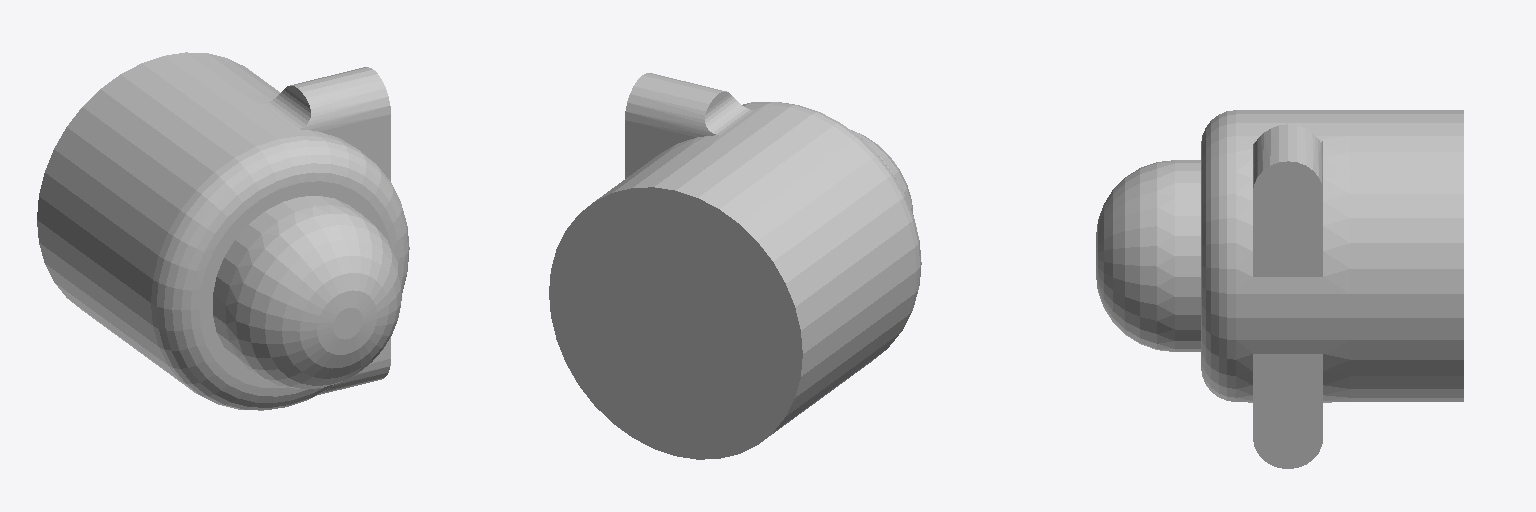
File: TassenProtect.obj
The picture shows the model from 3 angles: view 1: azimuth 30°, elevation 25°; view 2: azimuth 150°, elevation 25°; view 3: azimuth 270°, elevation 25°; orthographic projection.
Parts seen in each view (by area): view 1: Body2; view 2: Body2; view 3: Body2.
Part boxes in pixels (x1,y1,x2,y2): Body2: (37, 52, 409, 410); Body2: (549, 73, 921, 459); Body2: (1096, 110, 1463, 468).
Bounding box in the file's own units: 16.71 × 19.36 × 21.